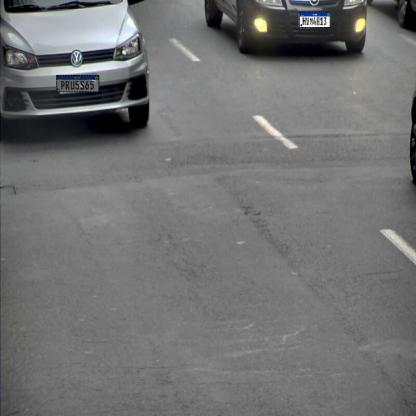PlacaM: (56, 75, 99, 92), (300, 12, 330, 28)
